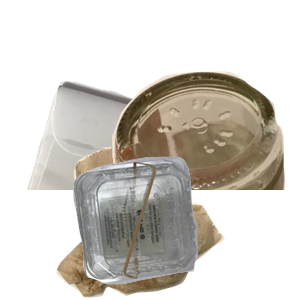glass: (89, 69, 300, 249)
paper: (25, 79, 265, 259)
plastic: (71, 154, 300, 300)
trash: (54, 147, 271, 300)
